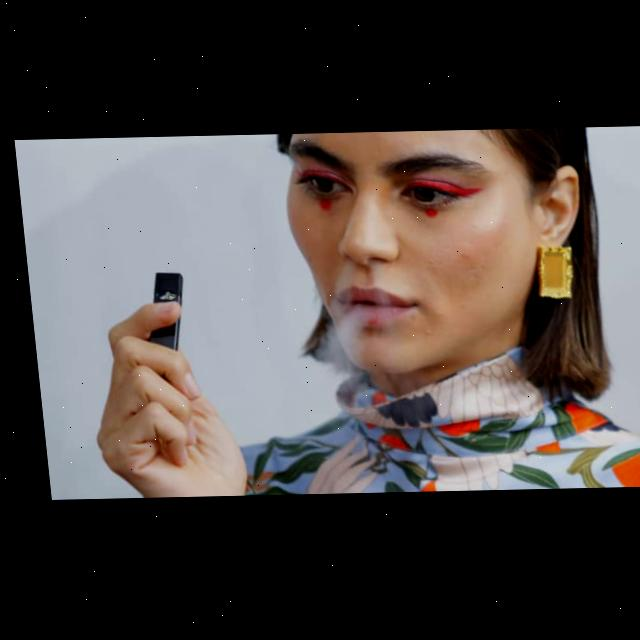vape: (135, 271, 184, 354)
